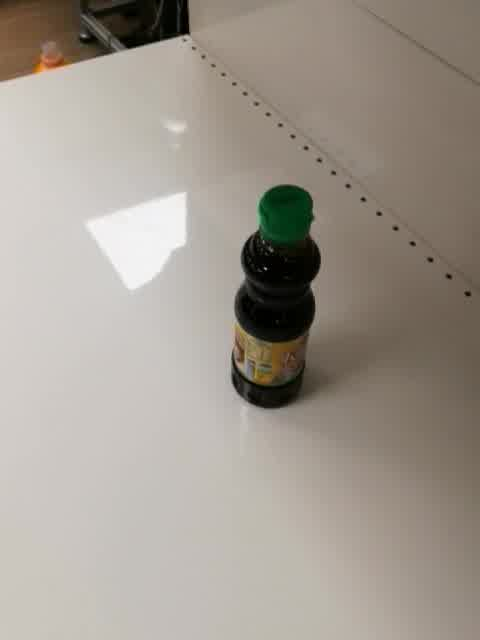cookingoil: (226, 182, 324, 411)
